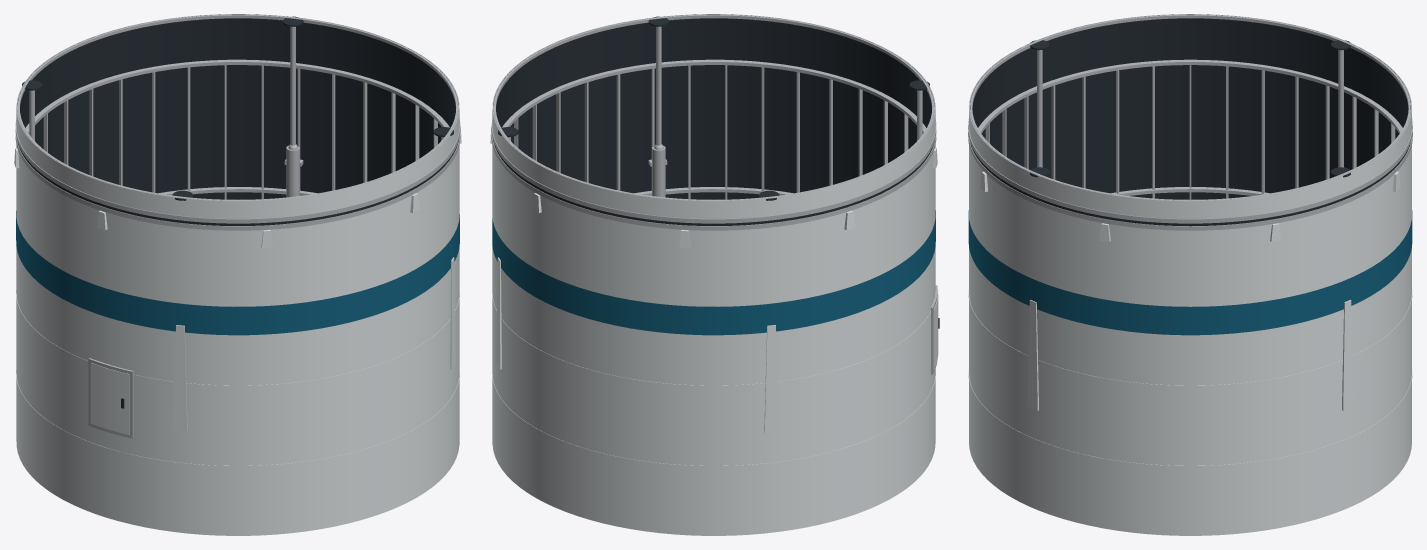
Rendered from interstage_pneumatic_d84.fbx.
3 views of the same model, side by side, from view 1: azimuth 30°, elevation 25°; view 2: azimuth 150°, elevation 25°; view 3: azimuth 270°, elevation 25° (orthographic).
Visible parts, largest first — view 1: interstage_pneumatic_d84_LOD0; view 2: interstage_pneumatic_d84_LOD0; view 3: interstage_pneumatic_d84_LOD0.
Part boxes in pixels (x1=…): interstage_pneumatic_d84_LOD0: x1=14, y1=14, x2=461, y2=535; interstage_pneumatic_d84_LOD0: x1=490, y1=14, x2=939, y2=535; interstage_pneumatic_d84_LOD0: x1=968, y1=14, x2=1412, y2=535.
Size of what is drawn, in the model's own units: 8.43 by 7 by 8.43.
